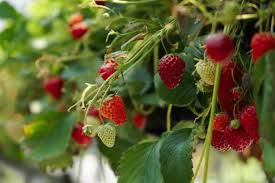ripe: (206, 110, 234, 152), (156, 52, 186, 91), (96, 91, 128, 126), (223, 121, 256, 153), (221, 66, 243, 111), (205, 31, 235, 63), (239, 103, 264, 140), (247, 28, 273, 63), (99, 58, 122, 84), (43, 75, 64, 101), (69, 121, 91, 145), (69, 23, 90, 39), (131, 110, 146, 130), (67, 19, 83, 30)
unripe: (195, 55, 218, 87), (94, 121, 117, 148), (80, 112, 102, 137), (230, 117, 240, 129)
